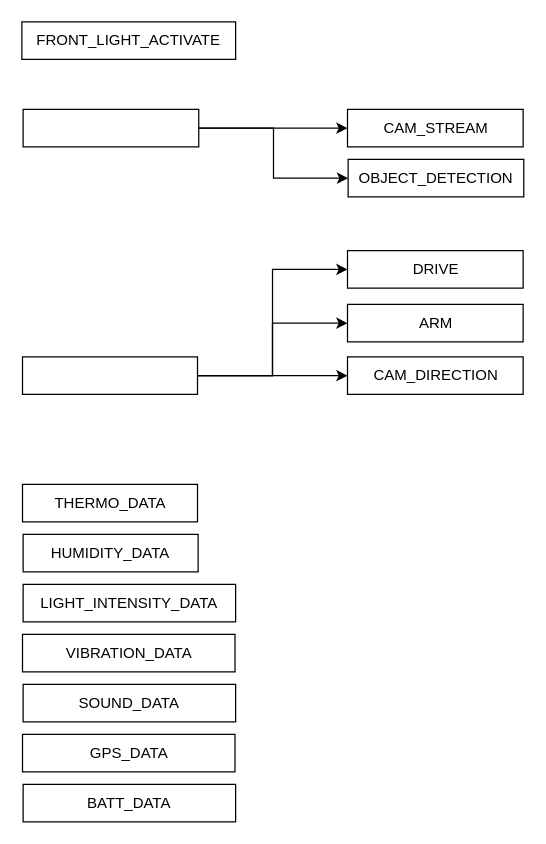
Some shapes in this 546 by 844 pixel diagram are drawn without their labels. Here are the shapes that lost their labels. From the top down, the centre of each, then its label:
the point at 110,127: CAM_PARAMETER
the point at 109,375: CTRL_PARAMETER
